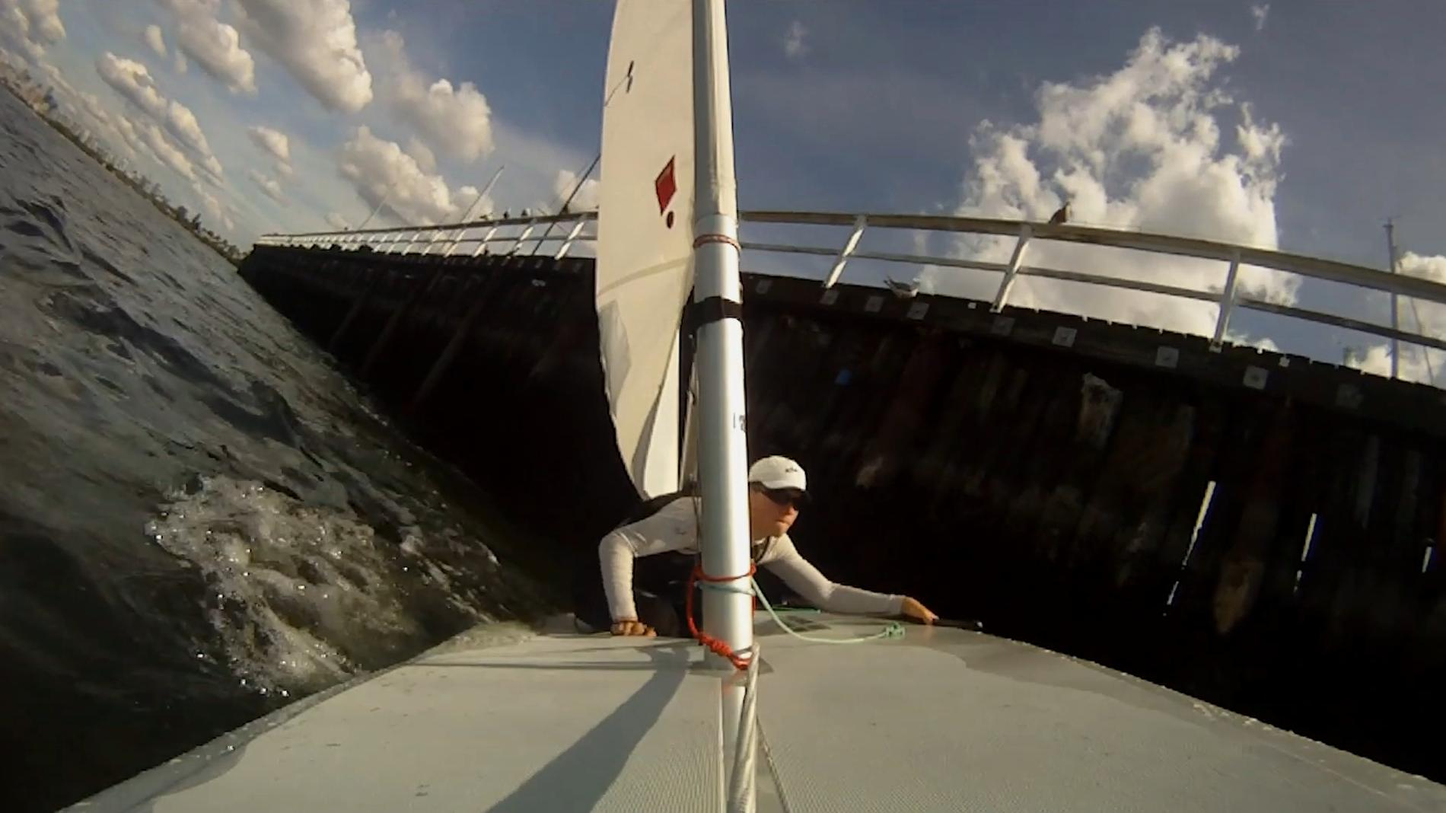boat: (62, 0, 1446, 813)
land: (743, 276, 1446, 740), (238, 247, 639, 629)
person: (57, 612, 1446, 813), (599, 456, 938, 636)
sea: (0, 64, 562, 813)
sky: (726, 0, 1446, 377), (0, 0, 617, 259)
